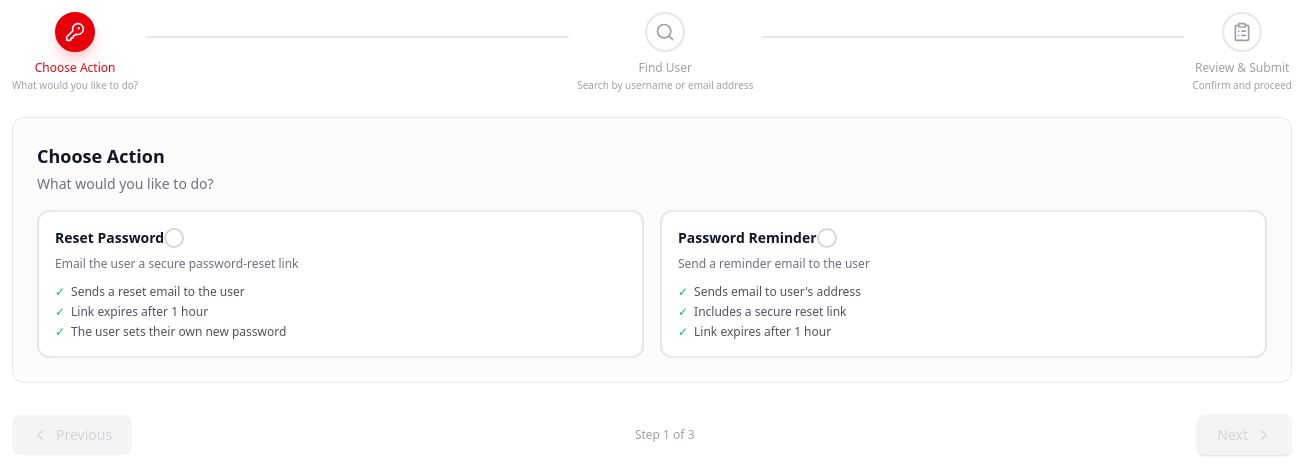
Test case: PasswordForm Component › Step 1 — Choose Action Validation › advances after selecting Password Reminder
This screenshot has width=1304, height=473.
Click the text "Password Reminder" at (747, 238), box [678,228,817,248]
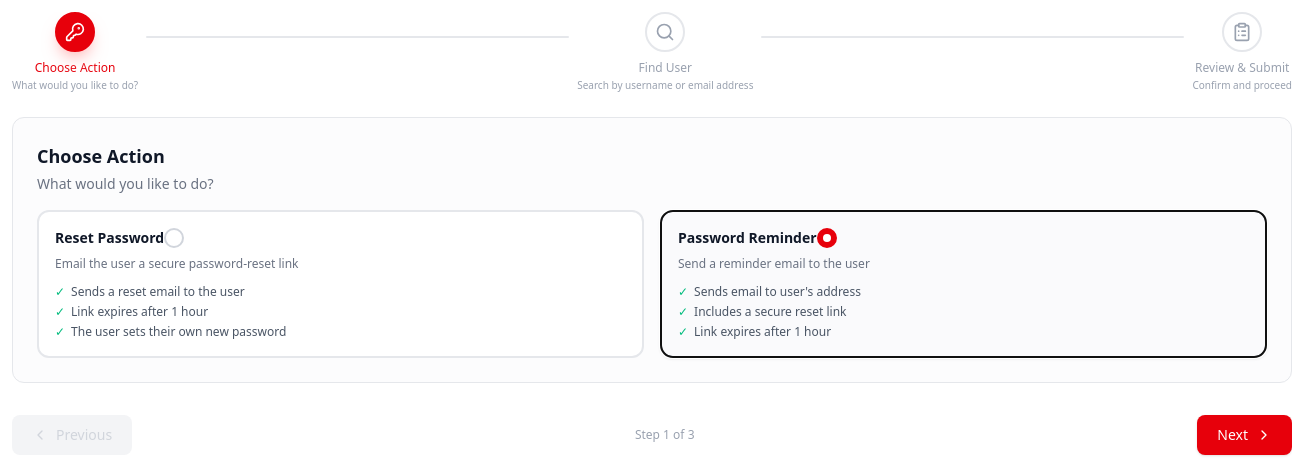
Click the button "Next" at (1245, 435), box [1197,415,1292,455]
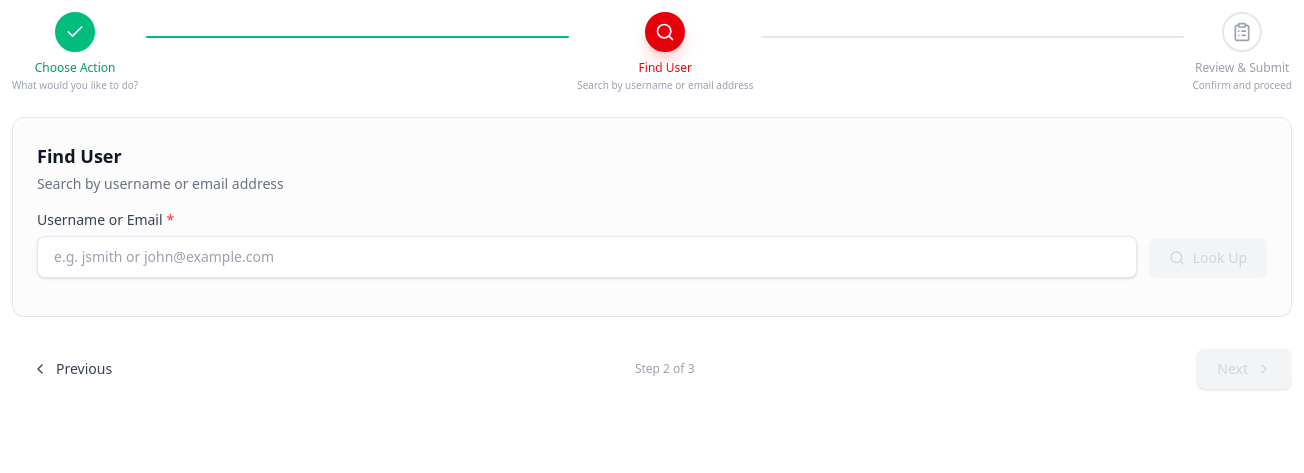
Expected: the heading "Find User" is shown, [37,144,122,168]
